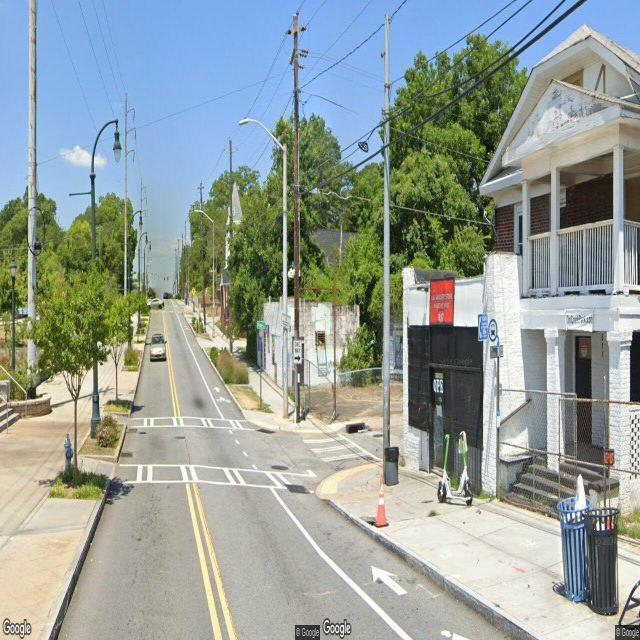trash_can: (585, 508, 621, 616), (556, 495, 592, 603), (384, 446, 400, 484)
